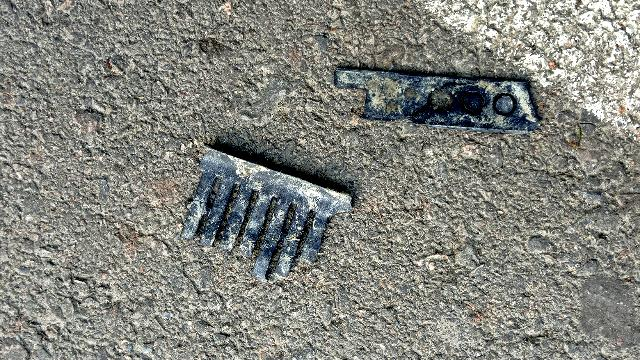hardplastic: (168, 141, 357, 275), (341, 65, 534, 131)
